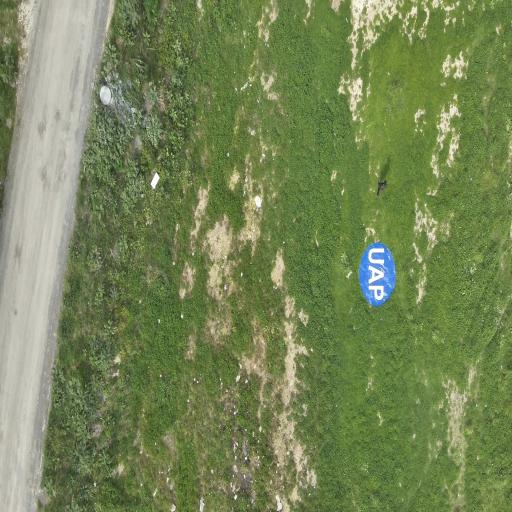UAP: (359, 243, 395, 306)
person: (378, 181, 386, 196)
